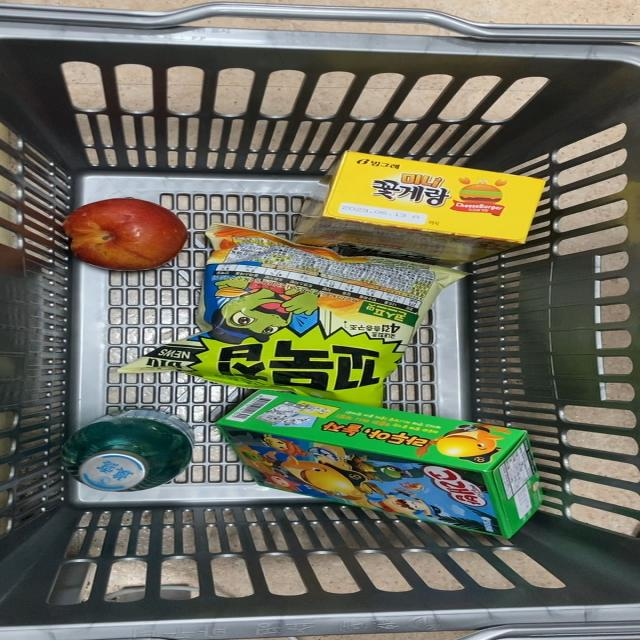ggobukchip: (167, 224, 435, 407)
goraebob: (205, 382, 569, 538)
jinro: (50, 410, 196, 495)
minicrab: (292, 148, 559, 247)
plum: (47, 188, 192, 282)
